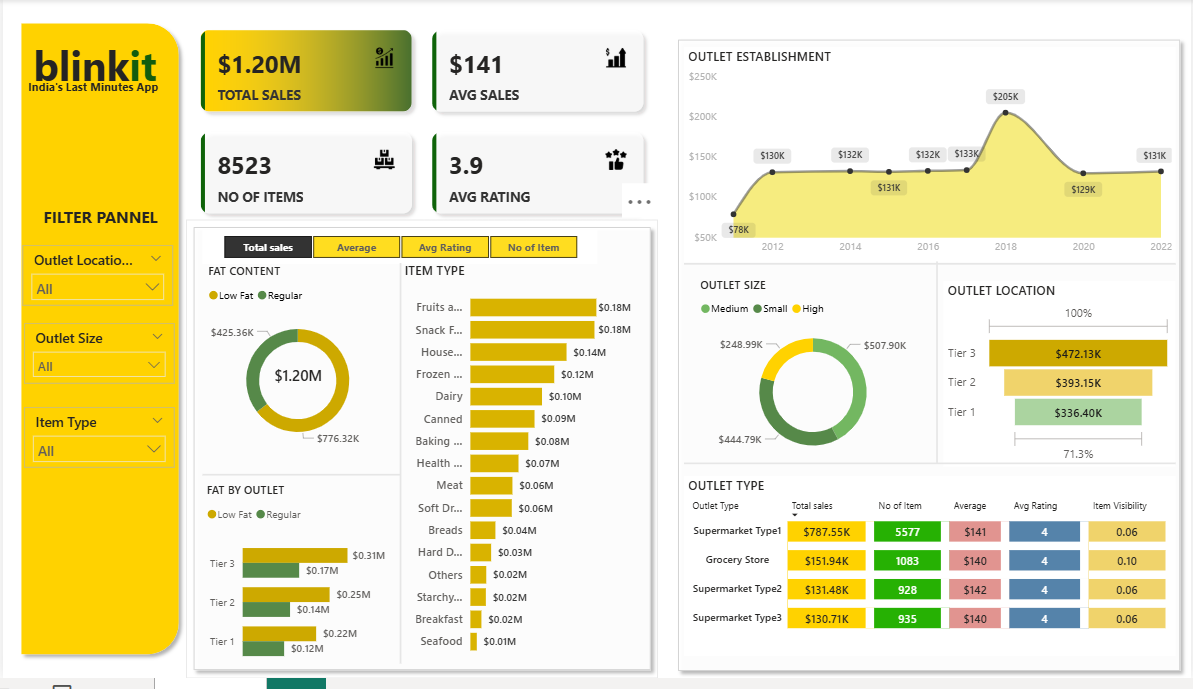

What the dashboard file says about the page in this screenshot:
{"tool":"powerbi","page":{"name":"blinkit","canvas":[1400,800],"ordinal":0},"visuals":[{"type":"shape","box":[11.6,19.9,203.7,761.8],"z":0},{"type":"textbox","box":[11.6,38.1,192.1,79.5],"z":1000},{"type":"textbox","box":[24.8,87.8,177.2,29.8],"z":2000},{"type":"cardVisual","fields":{"Data":["BlinkIT Grocery Data.Total sales","BlinkIT Grocery Data.Average","BlinkIT Grocery Data.No of Item","BlinkIT Grocery Data.Avg Rating"]},"box":[215.3,19.9,556.5,251.7],"z":3000},{"type":"shape","box":[215.3,260,556.5,539.9],"z":4000},{"type":"donutChart","title":"FAT CONTENT","fields":{"Y":["BlinkIT Grocery Data.Total sales"],"Category":["BlinkIT Grocery Data.Item Fat Content"]},"box":[236.8,311.4,220.3,230.2],"z":5000},{"type":"slicer","fields":{"Values":["matrix.matrix"]},"box":[235.2,271.6,465.4,39.7],"z":6000},{"type":"cardVisual","fields":{"Data":["BlinkIT Grocery Data.Total sales"]},"box":[301.4,400.8,91.1,76.2],"z":7000},{"type":"clusteredBarChart","title":"FAT BY OUTLET","fields":{"Y":["BlinkIT Grocery Data.Total sales"],"Category":["BlinkIT Grocery Data.Outlet Location Type"],"Series":["BlinkIT Grocery Data.Item Fat Content"]},"box":[235.2,569.7,220.3,230.2],"z":8000},{"type":"shape","box":[235.2,551.5,233.5,18.2],"z":9000},{"type":"shape","box":[455.4,311.4,24.8,472],"z":10000},{"type":"barChart","title":"ITEM TYPE","fields":{"Y":["BlinkIT Grocery Data.Total sales"],"Category":["BlinkIT Grocery Data.Item Type"]},"box":[468.7,309.7,276.6,473.7],"z":11000},{"type":"shape","box":[786.7,38.1,609.5,761.8],"z":12000},{"type":"lineChart","title":"OUTLET ESTABLISHMENT","fields":{"Y":["BlinkIT Grocery Data.Total sales"],"Category":["BlinkIT Grocery Data.Outlet Establishment Year"]},"box":[801.6,56.3,579.7,253.4],"z":13000},{"type":"shape","box":[801.6,299.8,579.7,23.2],"z":14000},{"type":"donutChart","title":"OUTLET SIZE","fields":{"Y":["BlinkIT Grocery Data.Total sales"],"Category":["BlinkIT Grocery Data.Outlet Size"]},"box":[816.5,326.3,274.9,225.2],"z":15000},{"type":"shape","box":[1091.4,309.7,16.6,238.5],"z":16000},{"type":"funnel","title":"OUTLET LOCATION","fields":{"Y":["BlinkIT Grocery Data.Total sales"],"Category":["BlinkIT Grocery Data.Outlet Location Type"]},"box":[1108,332.9,273.3,218.6],"z":17000},{"type":"shape","box":[801.6,534.9,579.7,23.2],"z":18000},{"type":"pivotTable","title":"OUTLET TYPE","fields":{"Rows":["BlinkIT Grocery Data.Outlet Type"],"Values":["BlinkIT Grocery Data.Total sales","BlinkIT Grocery Data.No of Item","BlinkIT Grocery Data.Average","BlinkIT Grocery Data.Avg Rating","Avg(BlinkIT Grocery Data.Item Visibility)"]},"box":[801.6,561.4,579.7,212],"z":19000},{"type":"slicer","fields":{"Values":["BlinkIT Grocery Data.Outlet Location Type"]},"box":[23.2,289.8,177.2,71.2],"z":20000},{"type":"slicer","fields":{"Values":["BlinkIT Grocery Data.Outlet Size"]},"box":[24.8,380.9,177,71],"z":21000},{"type":"slicer","fields":{"Values":["BlinkIT Grocery Data.Item Type"]},"box":[24.8,480.3,177.2,71.2],"z":22000},{"type":"textbox","box":[36.4,238.5,155.7,43.1],"z":22001}]}

Visuals, with their boxes in screenshot pixels (x1, y1, x2, y2), scaled from the page's 1400x800 canvas onto the 1193x689 screenshot:
shape: 10/17/183/673
textbox: 10/33/174/101
textbox: 21/76/172/101
cardVisual - BlinkIT Grocery Data.Total sales x BlinkIT Grocery Data.Average: 183/17/658/234
shape: 183/224/658/688
"FAT CONTENT" donutChart: 202/268/390/466
slicer - matrix.matrix: 200/234/597/268
cardVisual - BlinkIT Grocery Data.Total sales: 257/345/334/411
"FAT BY OUTLET" clusteredBarChart: 200/491/388/688
shape: 200/475/399/491
shape: 388/268/409/675
"ITEM TYPE" barChart: 399/267/635/675
shape: 670/33/1190/688
"OUTLET ESTABLISHMENT" lineChart: 683/48/1177/267
shape: 683/258/1177/278
"OUTLET SIZE" donutChart: 696/281/930/475
shape: 930/267/944/472
"OUTLET LOCATION" funnel: 944/287/1177/475
shape: 683/461/1177/481
"OUTLET TYPE" pivotTable: 683/484/1177/666
slicer - BlinkIT Grocery Data.Outlet Location Type: 20/250/171/311
slicer - BlinkIT Grocery Data.Outlet Size: 21/328/172/389
slicer - BlinkIT Grocery Data.Item Type: 21/414/172/475
textbox: 31/205/164/243
